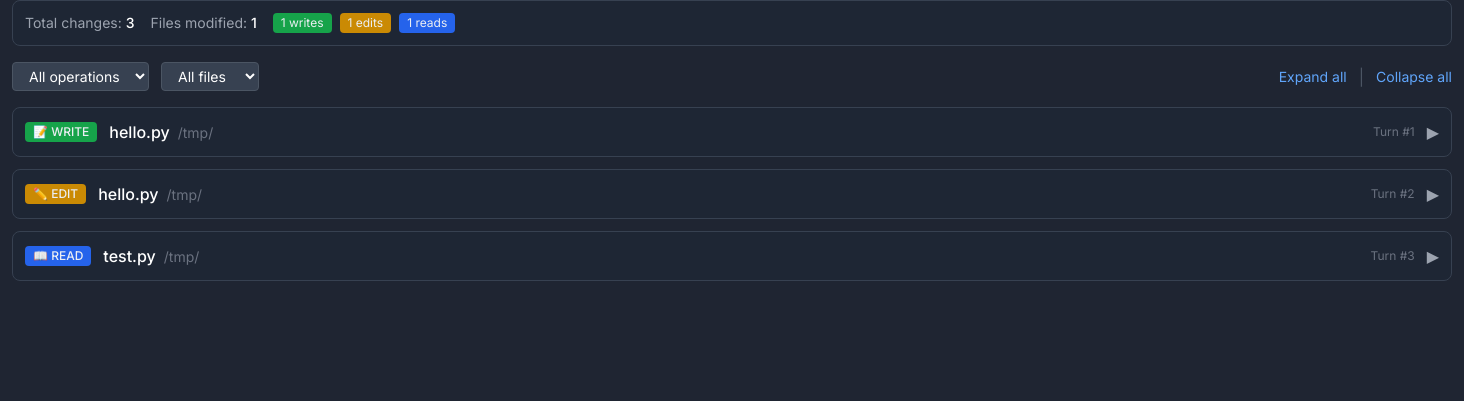
Scenario: CodeDiffViewer › shows diff view for edit operations
This screenshot has width=1464, height=401.
Click the button "✏️ EDIT hello.py/tmp/ Turn #2 ▶": (56, 194) 13,170 -> 1451,218
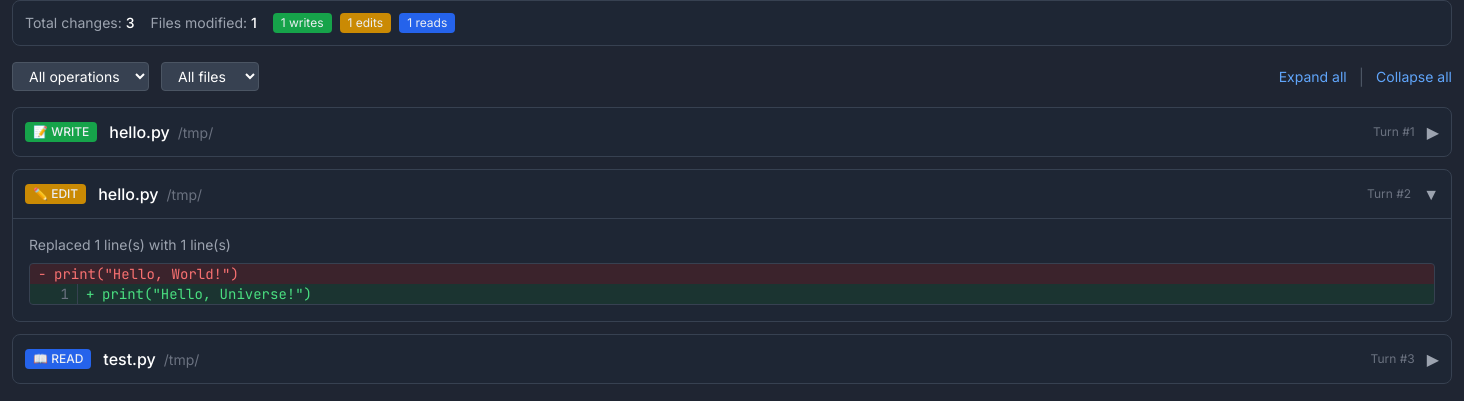
expect the text "Replaced 1 line(s) with 1 line(s)" is shown: met, box 29,236 -> 231,253
